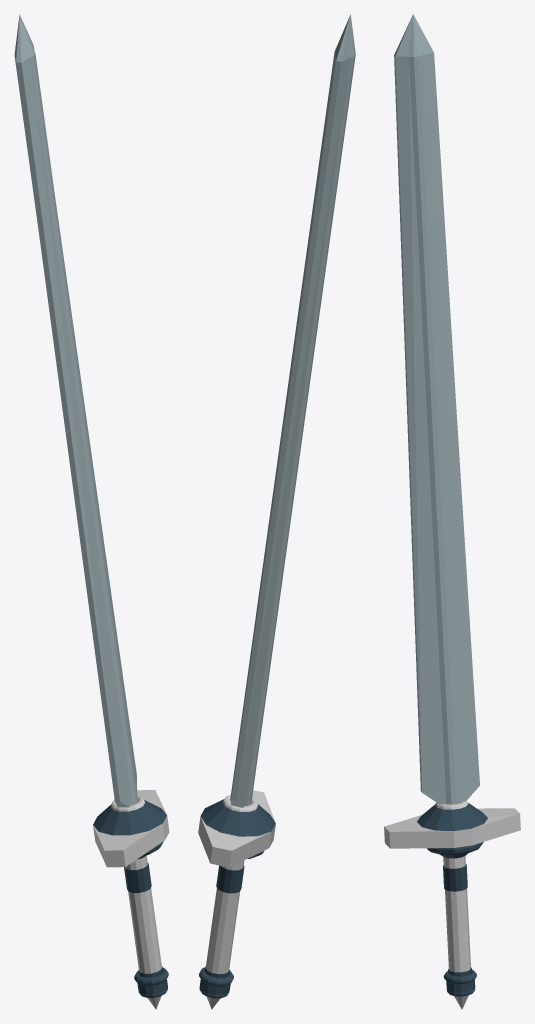
The model's file is sword.obj.
3 views of the same model, side by side, from view 1: azimuth 30°, elevation 25°; view 2: azimuth 210°, elevation 25°; view 3: azimuth 330°, elevation 25° (orthographic). The views are drawn at different scales.
Visible parts, largest first — view 1: group1679087221; view 2: group1679087221; view 3: group1679087221.
Boxes of the visible parts, x1,y1,x2,y2 form: group1679087221: [14, 14, 169, 1009]; group1679087221: [198, 14, 355, 1009]; group1679087221: [384, 14, 520, 1009].
Bounding box in the file's own units: 0.3172 × 2.18 × 0.2839.
